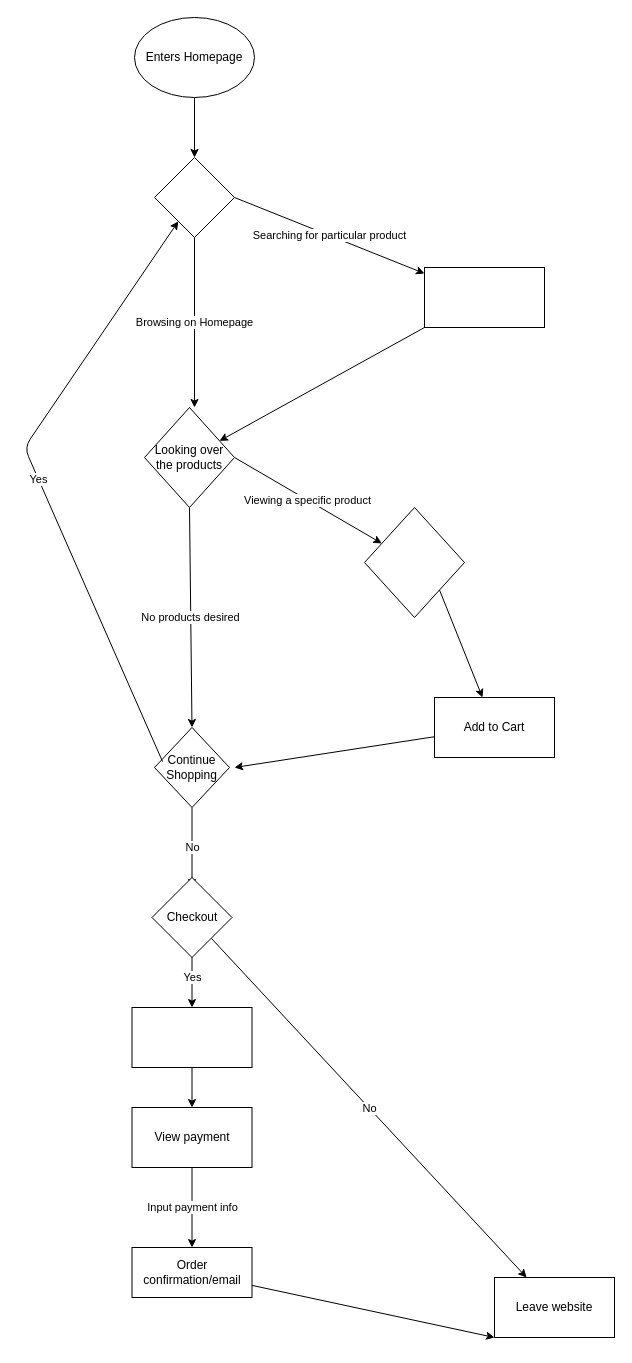
This 632x1363 diagram has some shape labels left out. The centre of each missing label's shape, as x and y in pixels:
Browsing: point (194, 197)
Provide searching queries: point (484, 297)
Specific product webpage: point (414, 562)
View Cart: point (191, 1037)
